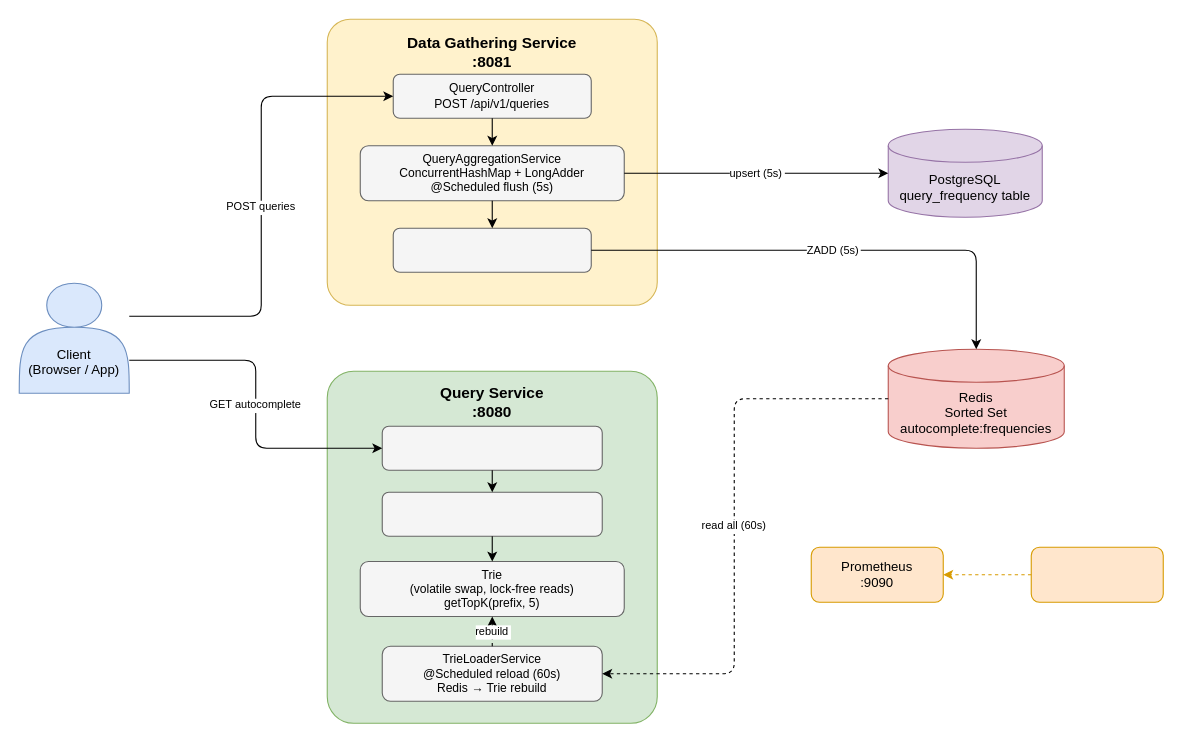
The diagram is 1183 pixels wide and 743 high, and some of its shapes have lost their labels. The centre of each missing label's shape, as x and y in pixels:
"AutocompleteController GET /api/v1/autocomplete" goes at point 491,447.
"AutocompleteService @Cacheable (Caffeine)" goes at point 491,513.
"Grafana :3000" goes at point 1096,574.
"RedisPublisherService ZADD sorted set" goes at point 491,249.
